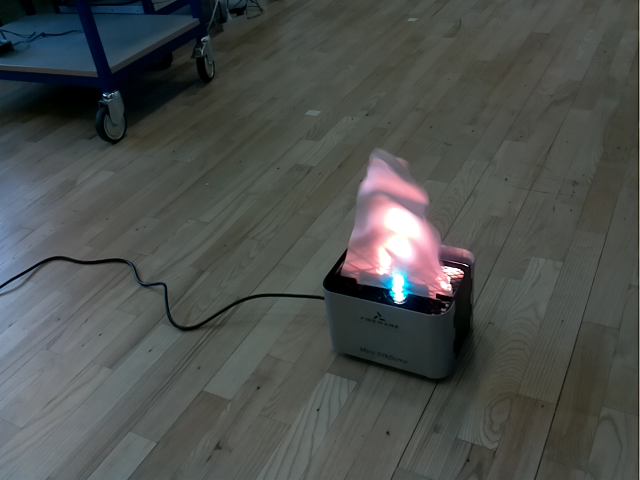fire: (341, 147, 454, 300)
